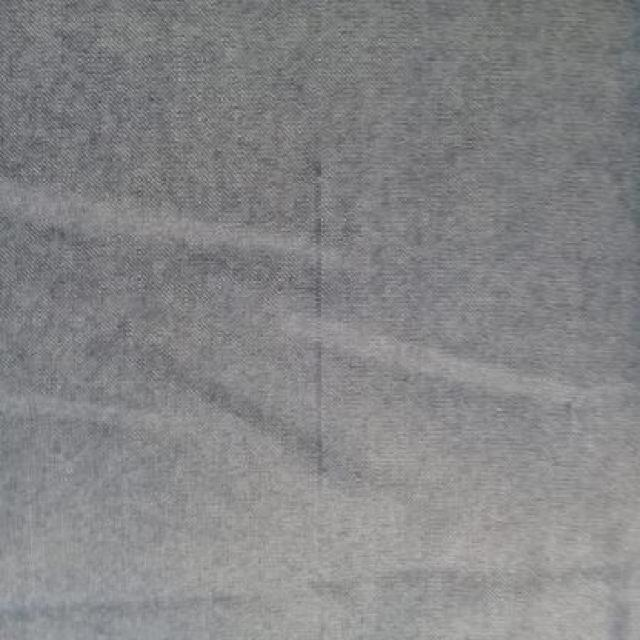pulled_or_thick_thread: (296, 148, 328, 474)
